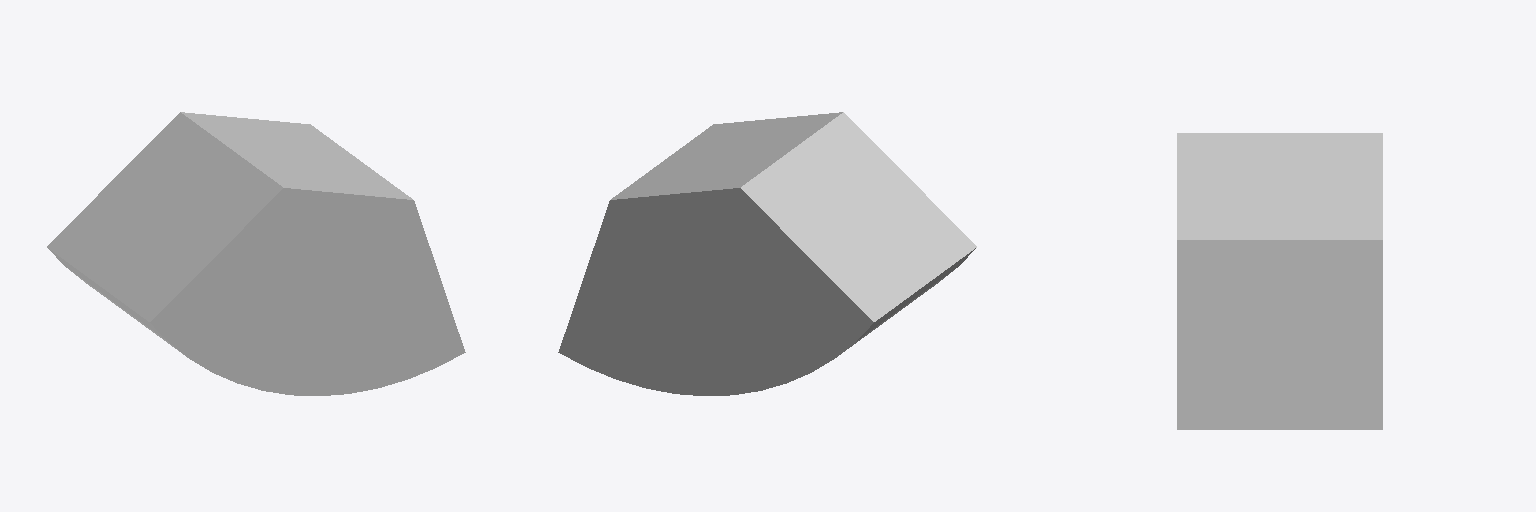
File: round_pentagon_hole_1.obj
3 renders of one model, left to right at view 1: azimuth 30°, elevation 25°; view 2: azimuth 150°, elevation 25°; view 3: azimuth 270°, elevation 25°, orthographic.
Visible parts, largest first — view 1: Body117; view 2: Body117; view 3: Body117.
Part boxes in pixels (x1,y1,x2,y2): Body117: (47,112,465,395); Body117: (558,112,976,395); Body117: (1177,133,1382,429).
Size of the model in its own units: 0.0705 by 0.0477 by 0.04.